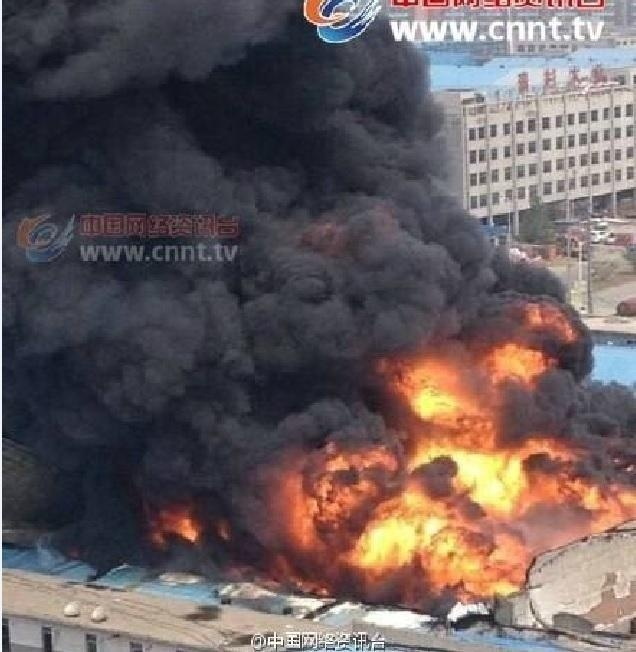fire: (271, 322, 635, 600), (161, 511, 204, 541)
